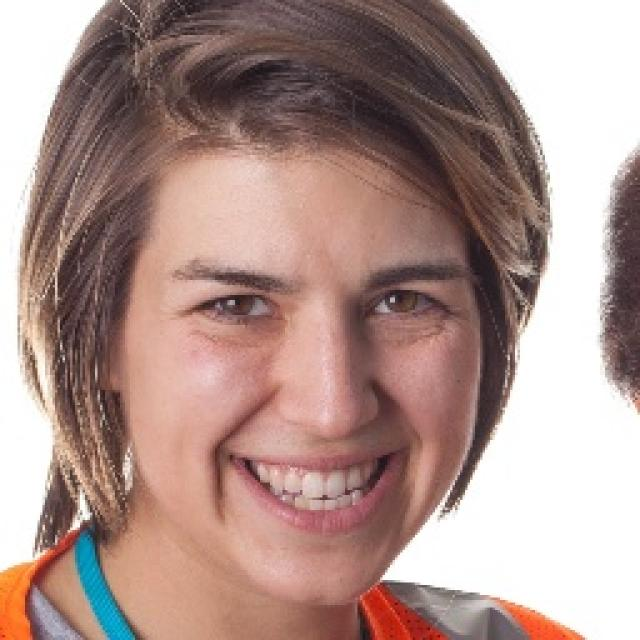earlobe: (93, 354, 121, 395)
eye: (192, 289, 284, 328), (367, 292, 443, 320)
nose: (276, 416, 372, 450)
